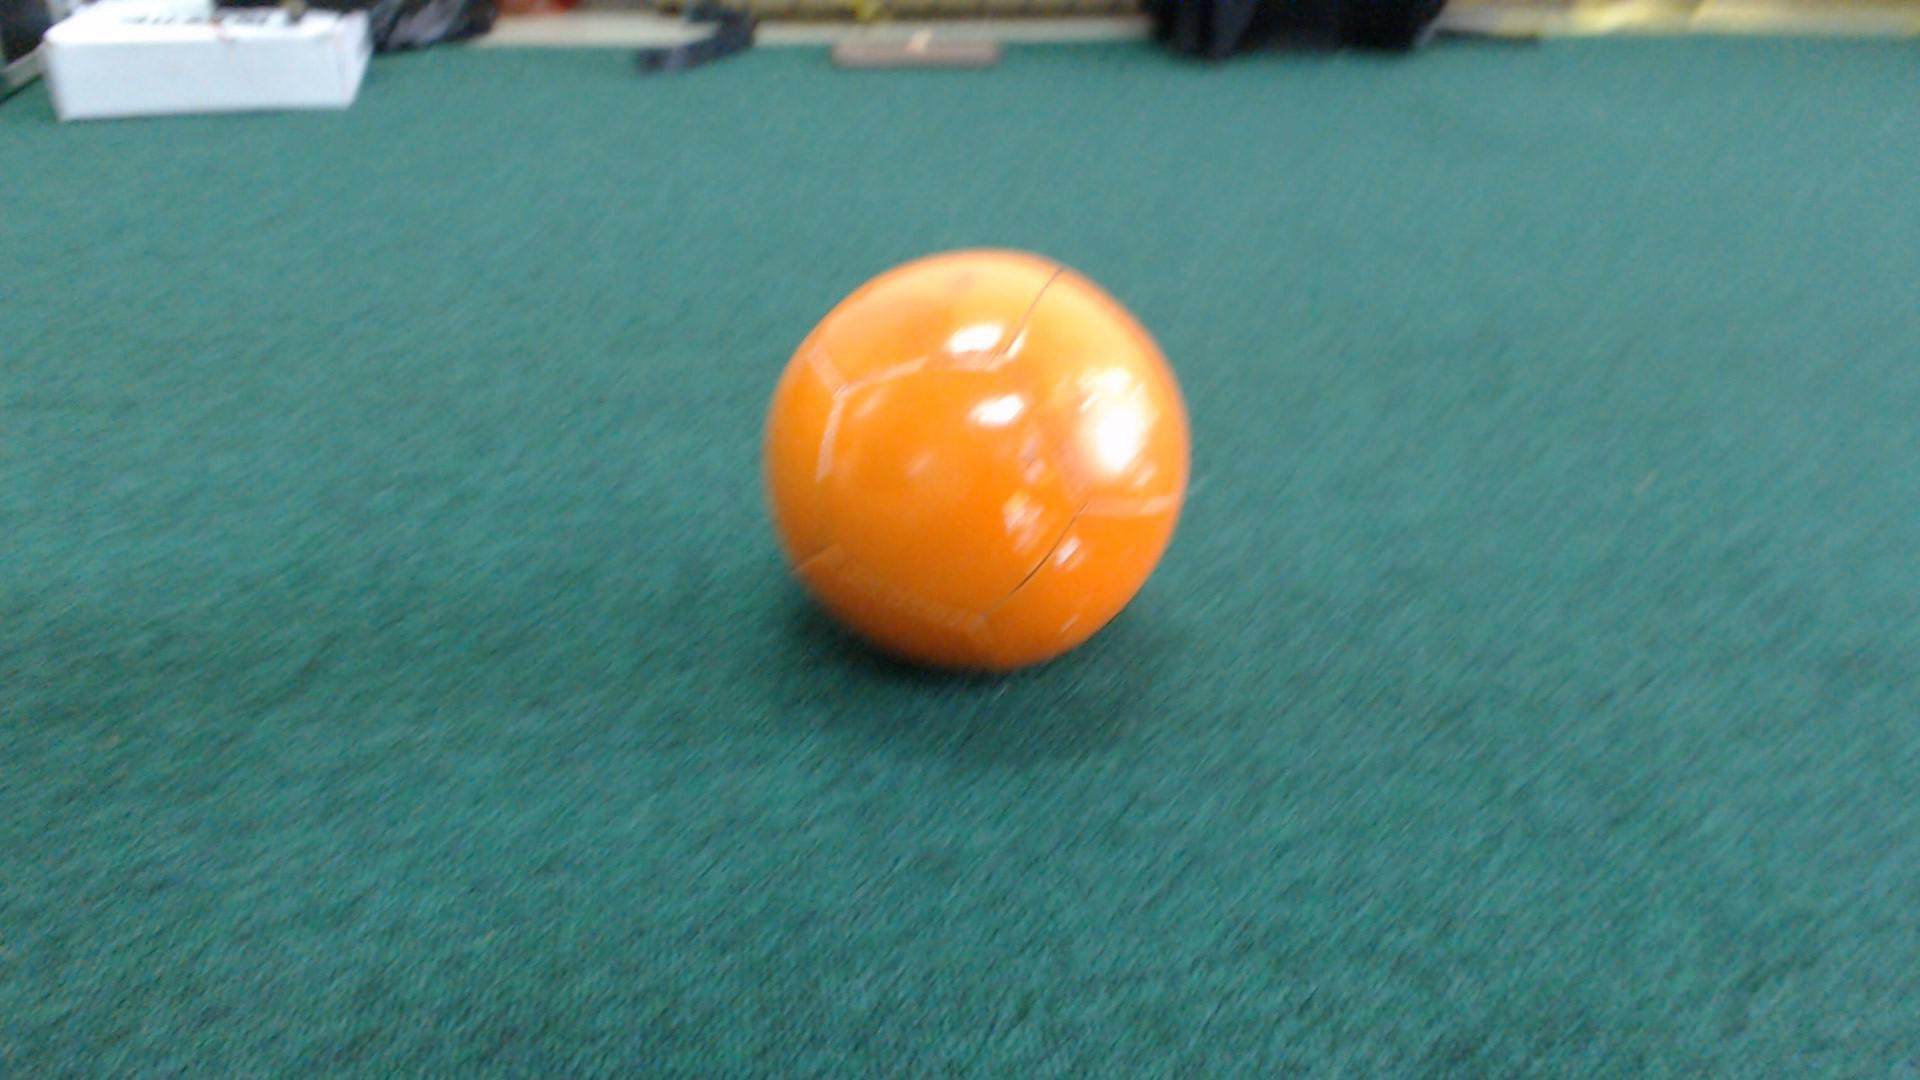bola: (760, 231, 1209, 684)
